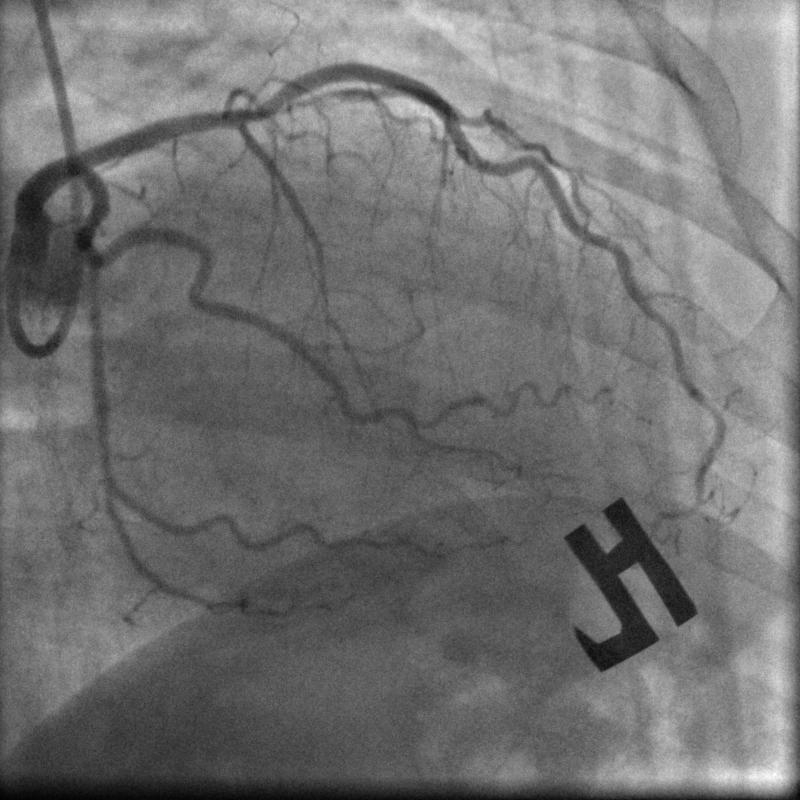Stenosis: (78, 205, 115, 264)
